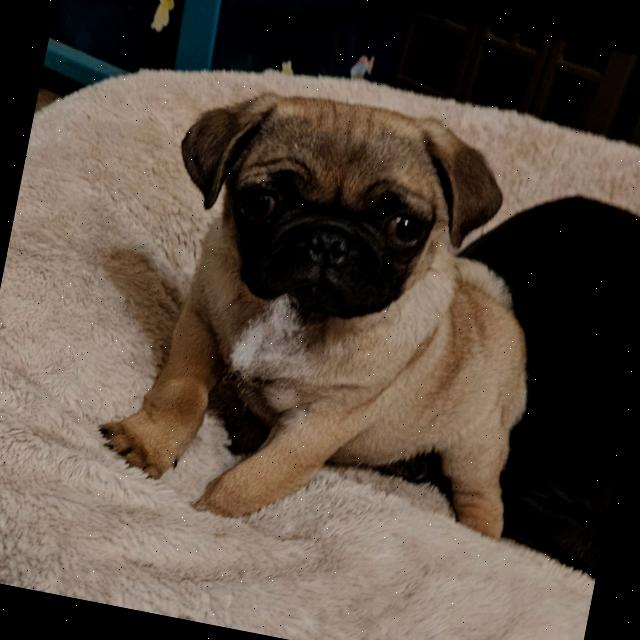pug_dog: (143, 66, 522, 367)
